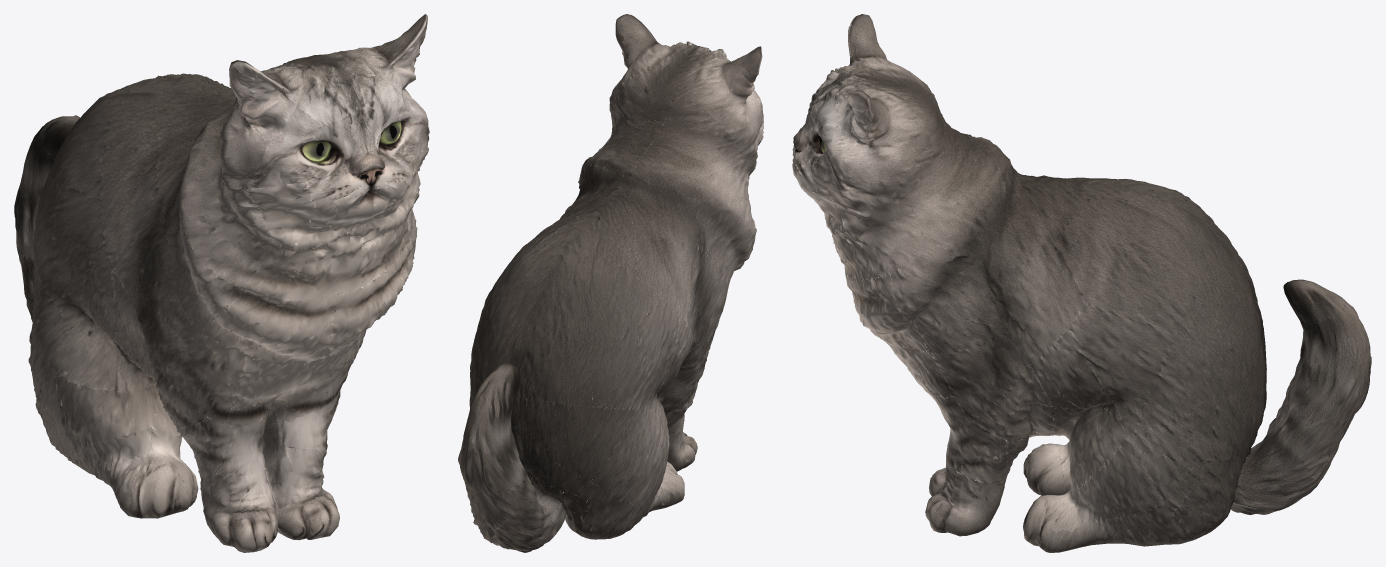
Rendered from cat.glb.
3 renders of one model, left to right at view 1: azimuth 30°, elevation 25°; view 2: azimuth 150°, elevation 25°; view 3: azimuth 270°, elevation 25°, orthographic. The views are drawn at different scales.
Parts seen in each view (by area): view 1: mesh_node; view 2: mesh_node; view 3: mesh_node.
Part boxes in pixels (x1=…): mesh_node: x1=14, y1=14, x2=429, y2=552; mesh_node: x1=458, y1=14, x2=763, y2=552; mesh_node: x1=792, y1=14, x2=1371, y2=552.
Size of the model in its own units: 0.7994 by 1.68 by 1.91.
Materials: 1 (1 with a texture image).
